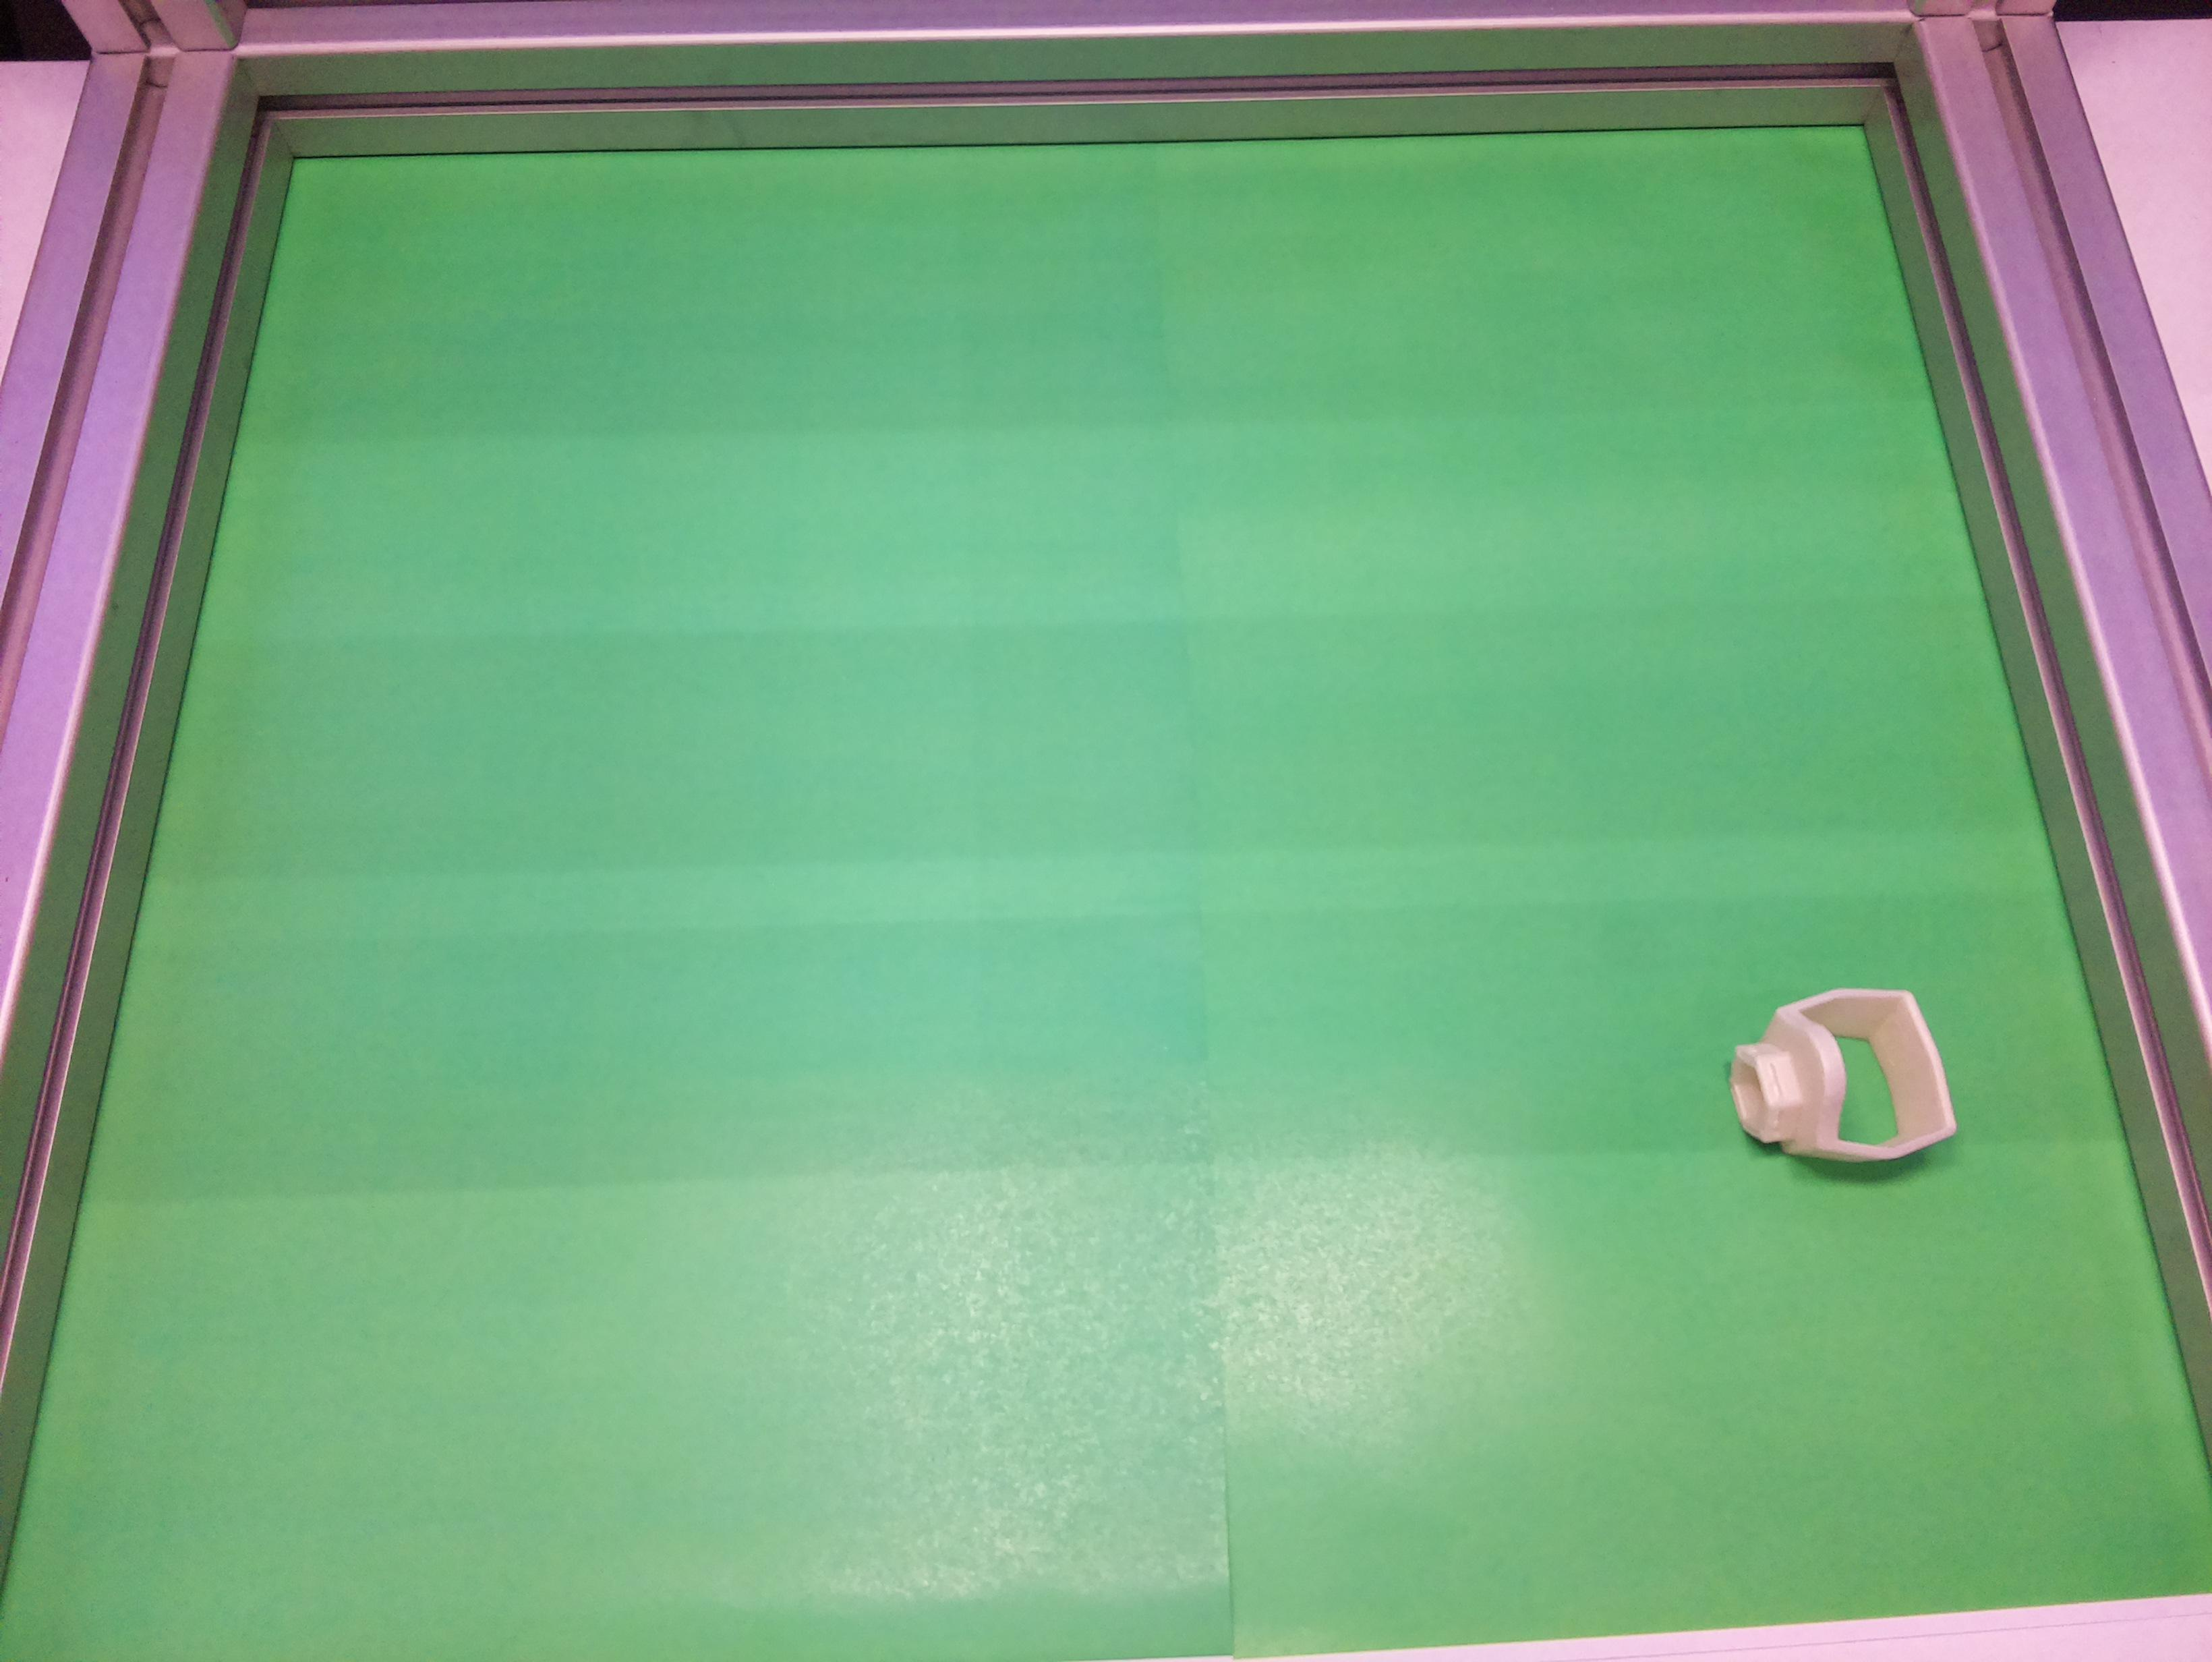tool_holder: (1713, 967, 1964, 1198)
